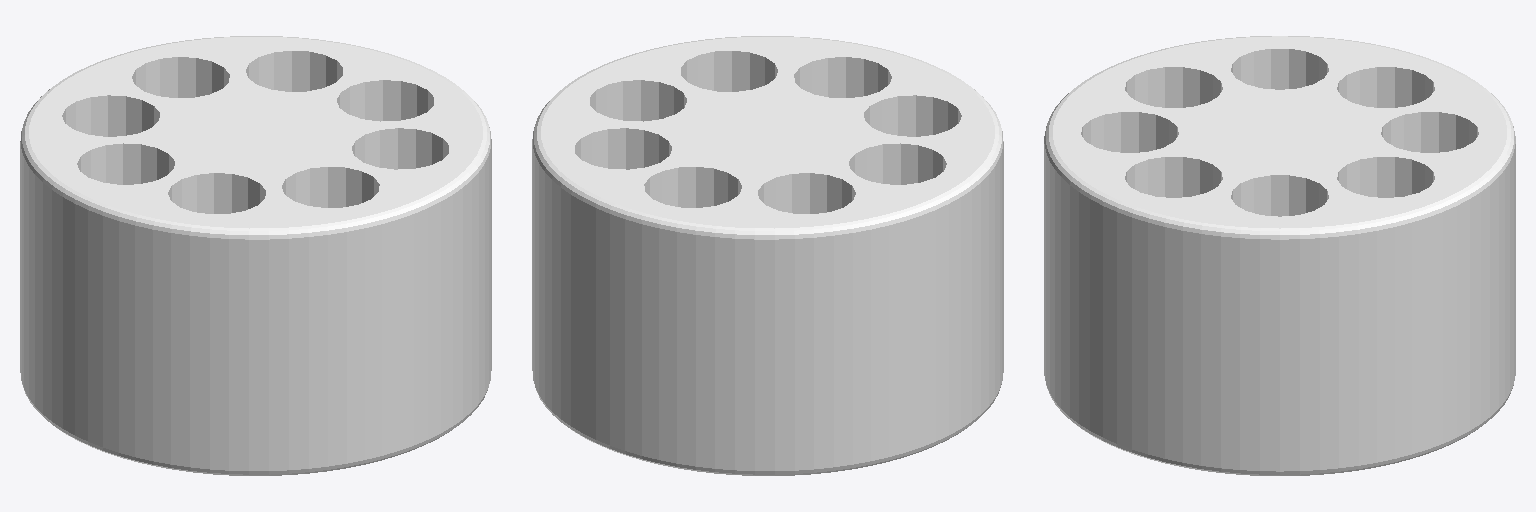
The robot description file, URDF, robot "battery_pack_3":
<?xml version="1.0" encoding="utf-8"?>
<!-- This URDF was automatically created by SolidWorks to URDF Exporter! Originally created by [author] ([email redacted]) 
     Commit Version: 1.6.0-4-g7f85cfe  Build Version: 1.6.7995.38578
     For more information, please see http://wiki.ros.org/sw_urdf_exporter -->
<robot
  name="battery_pack_3">
  <link
    name="battery_pack_base_link">
    <inertial>
      <origin
        xyz="-0.95 0 -0.0999999999999996"
        rpy="0 0 0" />
      <mass
        value="552" />
      <inertia
        ixx="68.0799999999999"
        ixy="-7.84187529726902E-15"
        ixz="-1.07543603652023E-15"
        iyy="245.18"
        iyz="1.32995466491555E-16"
        izz="309.58" />
    </inertial>
    <visual>
      <origin
        xyz="0 0 0"
        rpy="0 0 0" />
      <geometry>
        <mesh
          filename="package://battery_pack_3/meshes/battery_pack_base_link.STL" />
      </geometry>
      <material
        name="battery">
        <color
          rgba="1 1 1 1" />
      </material>
    </visual>
    <collision>
      <origin
        xyz="0 0 0"
        rpy="0 0 0" />
      <geometry>
        <mesh
          filename="package://battery_pack_3/meshes/battery_pack_base_link.STL" />
      </geometry>
    </collision>
  </link>
  <link
    name="M6_gasket_1_link">
    <inertial>
      <origin
        xyz="-5.55111512312578E-17 1.11022302462516E-16 -0.000499999999999723"
        rpy="0 0 0" />
      <mass
        value="8.82772243861937E-05" />
      <inertia
        ixx="1.24959661693432E-09"
        ixy="-2.58493941422821E-26"
        ixz="7.02201084753254E-41"
        iyy="1.24959661693432E-09"
        iyz="-1.65030964290011E-40"
        izz="2.48456062424061E-09" />
    </inertial>
    <visual>
      <origin
        xyz="0 0 0"
        rpy="0 0 0" />
      <geometry>
        <mesh
          filename="package://battery_pack_3/meshes/M6_gasket_1_link.STL" />
      </geometry>
      <material
        name="bolt">
        <color
          rgba="1 1 1 1" />
      </material>
    </visual>
    <collision>
      <origin
        xyz="0 0 0"
        rpy="0 0 0" />
      <geometry>
        <mesh
          filename="package://battery_pack_3/meshes/M6_gasket_1_link.STL" />
      </geometry>
    </collision>
  </link>
  <joint
    name="M6_gasket_1_joint"
    type="fixed">
    <origin
      xyz="-0.5215 -0.404 0.0525"
      rpy="3.1416 0 -2.7485" />
    <parent
      link="battery_pack_base_link" />
    <child
      link="M6_gasket_1_link" />
    <axis
      xyz="0 0 0" />
  </joint>
  <link
    name="M6_gasket_2_link">
    <inertial>
      <origin
        xyz="0 0 -0.000499999999999723"
        rpy="0 0 0" />
      <mass
        value="8.82772243861937E-05" />
      <inertia
        ixx="1.24959661693432E-09"
        ixy="-1.29246970711411E-25"
        ixz="1.50034156156908E-42"
        iyy="1.24959661693432E-09"
        iyz="6.8771134273246E-43"
        izz="2.48456062424061E-09" />
    </inertial>
    <visual>
      <origin
        xyz="0 0 0"
        rpy="0 0 0" />
      <geometry>
        <mesh
          filename="package://battery_pack_3/meshes/M6_gasket_2_link.STL" />
      </geometry>
      <material
        name="bolt">
        <color
          rgba="1 1 1 1" />
      </material>
    </visual>
    <collision>
      <origin
        xyz="0 0 0"
        rpy="0 0 0" />
      <geometry>
        <mesh
          filename="package://battery_pack_3/meshes/M6_gasket_2_link.STL" />
      </geometry>
    </collision>
  </link>
  <joint
    name="M6_gasket_2_joint"
    type="fixed">
    <origin
      xyz="-0.5215 -0.304 0.0525"
      rpy="3.1416 0 -2.7485" />
    <parent
      link="battery_pack_base_link" />
    <child
      link="M6_gasket_2_link" />
    <axis
      xyz="0 0 0" />
  </joint>
  <link
    name="M8_gasket_1_link">
    <inertial>
      <origin
        xyz="0 0 -0.000499999999999945"
        rpy="0 0 0" />
      <mass
        value="0.00010550204865667" />
      <inertia
        ixx="2.08686937076162E-09"
        ixy="5.16987882845642E-26"
        ixz="1.7437435717737E-42"
        iyy="2.08686937076162E-09"
        iyz="2.84281637081175E-43"
        izz="4.15625098855316E-09" />
    </inertial>
    <visual>
      <origin
        xyz="0 0 0"
        rpy="0 0 0" />
      <geometry>
        <mesh
          filename="package://battery_pack_3/meshes/M8_gasket_1_link.STL" />
      </geometry>
      <material
        name="bolt">
        <color
          rgba="1 1 1 1" />
      </material>
    </visual>
    <collision>
      <origin
        xyz="0 0 0"
        rpy="0 0 0" />
      <geometry>
        <mesh
          filename="package://battery_pack_3/meshes/M8_gasket_1_link.STL" />
      </geometry>
    </collision>
  </link>
  <joint
    name="M8_gasket_1_joint"
    type="fixed">
    <origin
      xyz="-0.5215 -0.104 0.0525"
      rpy="3.1416 0 -2.7485" />
    <parent
      link="battery_pack_base_link" />
    <child
      link="M8_gasket_1_link" />
    <axis
      xyz="0 0 0" />
  </joint>
  <link
    name="M8_gasket_2_link">
    <inertial>
      <origin
        xyz="0 0 -0.000499999999999945"
        rpy="0 0 0" />
      <mass
        value="0.00010550204865667" />
      <inertia
        ixx="2.08686937076162E-09"
        ixy="5.16987882845642E-26"
        ixz="1.7437435717737E-42"
        iyy="2.08686937076162E-09"
        iyz="2.84281637081175E-43"
        izz="4.15625098855316E-09" />
    </inertial>
    <visual>
      <origin
        xyz="0 0 0"
        rpy="0 0 0" />
      <geometry>
        <mesh
          filename="package://battery_pack_3/meshes/M8_gasket_2_link.STL" />
      </geometry>
      <material
        name="bolt">
        <color
          rgba="1 1 1 1" />
      </material>
    </visual>
    <collision>
      <origin
        xyz="0 0 0"
        rpy="0 0 0" />
      <geometry>
        <mesh
          filename="package://battery_pack_3/meshes/M8_gasket_2_link.STL" />
      </geometry>
    </collision>
  </link>
  <joint
    name="M8_gasket_2_joint"
    type="fixed">
    <origin
      xyz="-0.521499999999999 -0.00400000000000011 0.0525"
      rpy="3.14159265358979 0 -2.74849784316327" />
    <parent
      link="battery_pack_base_link" />
    <child
      link="M8_gasket_2_link" />
    <axis
      xyz="0 0 0" />
  </joint>
  <link
    name="M10_gasket_1_link">
    <inertial>
      <origin
        xyz="2.77555756156289E-17 0 -0.000499999999999723"
        rpy="0 0 0" />
      <mass
        value="0.000122726872927147" />
      <inertia
        ixx="3.24064827055894E-09"
        ixy="2.06795153138257E-25"
        ixz="2.26664384148777E-42"
        iyy="3.24064827055894E-09"
        iyz="9.39925665401376E-43"
        izz="6.46095364480573E-09" />
    </inertial>
    <visual>
      <origin
        xyz="0 0 0"
        rpy="0 0 0" />
      <geometry>
        <mesh
          filename="package://battery_pack_3/meshes/M10_gasket_1_link.STL" />
      </geometry>
      <material
        name="bolt">
        <color
          rgba="1 1 1 1" />
      </material>
    </visual>
    <collision>
      <origin
        xyz="0 0 0"
        rpy="0 0 0" />
      <geometry>
        <mesh
          filename="package://battery_pack_3/meshes/M10_gasket_1_link.STL" />
      </geometry>
    </collision>
  </link>
  <joint
    name="M10_gasket_1_joint"
    type="fixed">
    <origin
      xyz="-0.5215 0.196 0.0525"
      rpy="3.1416 0 -2.7485" />
    <parent
      link="battery_pack_base_link" />
    <child
      link="M10_gasket_1_link" />
    <axis
      xyz="0 0 0" />
  </joint>
  <link
    name="M10_gasket_2_link">
    <inertial>
      <origin
        xyz="0 0 -0.000499999999999723"
        rpy="0 0 0" />
      <mass
        value="0.000122726872927147" />
      <inertia
        ixx="3.24064827055894E-09"
        ixy="3.10192729707385E-25"
        ixz="3.07565550259243E-42"
        iyy="3.24064827055894E-09"
        iyz="1.27540440712647E-42"
        izz="6.46095364480573E-09" />
    </inertial>
    <visual>
      <origin
        xyz="0 0 0"
        rpy="0 0 0" />
      <geometry>
        <mesh
          filename="package://battery_pack_3/meshes/M10_gasket_2_link.STL" />
      </geometry>
      <material
        name="bolt">
        <color
          rgba="1 1 1 1" />
      </material>
    </visual>
    <collision>
      <origin
        xyz="0 0 0"
        rpy="0 0 0" />
      <geometry>
        <mesh
          filename="package://battery_pack_3/meshes/M10_gasket_2_link.STL" />
      </geometry>
    </collision>
  </link>
  <joint
    name="M10_gasket_2_joint"
    type="fixed">
    <origin
      xyz="-0.5215 0.296 0.0525"
      rpy="3.1416 0 -2.7485" />
    <parent
      link="battery_pack_base_link" />
    <child
      link="M10_gasket_2_link" />
    <axis
      xyz="0 0 0" />
  </joint>
  <link
    name="battery_link">
    <inertial>
      <origin
        xyz="-0.812291820172866 0.499989787693561 0"
        rpy="0 0 0" />
      <mass
        value="125.983329440983" />
      <inertia
        ixx="10.5619007949744"
        ixy="0.00102256355122022"
        ixz="-6.62078457904823E-17"
        iyy="26.1288590387794"
        iyz="-7.60212567544936E-17"
        izz="36.5573338075084" />
    </inertial>
    <visual>
      <origin
        xyz="0 0 0"
        rpy="0 0 0" />
      <geometry>
        <mesh
          filename="package://battery_pack_3/meshes/battery_link.STL" />
      </geometry>
      <material
        name="platform">
        <color
          rgba="1 1 1 1" />
      </material>
    </visual>
    <collision>
      <origin
        xyz="0 0 0"
        rpy="0 0 0" />
      <geometry>
        <mesh
          filename="package://battery_pack_3/meshes/battery_link.STL" />
      </geometry>
    </collision>
  </link>
  <joint
    name="battery_joint"
    type="fixed">
    <origin
      xyz="-0.504 -0.504 0.04"
      rpy="0 0 0" />
    <parent
      link="battery_pack_base_link" />
    <child
      link="battery_link" />
    <axis
      xyz="0 0 0" />
  </joint>
  <link
    name="sleeve_plate_link">
    <inertial>
      <origin
        xyz="1.11022302462516E-16 8.88178419700125E-16 -0.0352640063612282"
        rpy="0 0 0" />
      <mass
        value="0.470768962568758" />
      <inertia
        ixx="0.000568182164550131"
        ixy="-1.62791000954016E-18"
        ixz="-5.14981494189824E-19"
        iyy="0.000568182164550131"
        iyz="-4.30500749607232E-18"
        izz="0.000782508380891709" />
    </inertial>
    <visual>
      <origin
        xyz="0 0 0"
        rpy="0 0 0" />
      <geometry>
        <mesh
          filename="package://battery_pack_3/meshes/sleeve_plate_link.STL" />
      </geometry>
      <material
        name="battery">
        <color
          rgba="1 1 1 1" />
      </material>
    </visual>
    <collision>
      <origin
        xyz="0 0 0"
        rpy="0 0 0" />
      <geometry>
        <mesh
          filename="package://battery_pack_3/meshes/sleeve_plate_link.STL" />
      </geometry>
    </collision>
  </link>
  <joint
    name="sleeve_plate_joint"
    type="fixed">
    <origin
      xyz="0 0.45 0.065"
      rpy="0 0 0" />
    <parent
      link="battery_pack_base_link" />
    <child
      link="sleeve_plate_link" />
    <axis
      xyz="0 0 0" />
  </joint>
</robot>

--- What the picture shows (computed from the rendered views, not written in the file) ---
Views: 3 orthographic renders of the robot side by side, from view 1: azimuth 30°, elevation 25°; view 2: azimuth 150°, elevation 25°; view 3: azimuth 270°, elevation 25°.
Model battery_pack_3 with 9 links and 8 joints (8 fixed), rooted at battery_pack_base_link, posed all joints at 0.
Visible links, largest first — view 1: sleeve_plate_link; view 2: sleeve_plate_link; view 3: sleeve_plate_link.
Boxes of the visible links, x1,y1,x2,y2 form: sleeve_plate_link: (20,36,491,475); sleeve_plate_link: (532,36,1003,475); sleeve_plate_link: (1044,36,1515,475).
Bounding box of the posed robot: 0.1124 × 0.1123 × 0.065 m (x, y, z).
Meshes: 9 distinct files referenced, 1 mesh visuals loaded (1 binary STL); not drawn: 8 (reference not matched to a file when rendering).